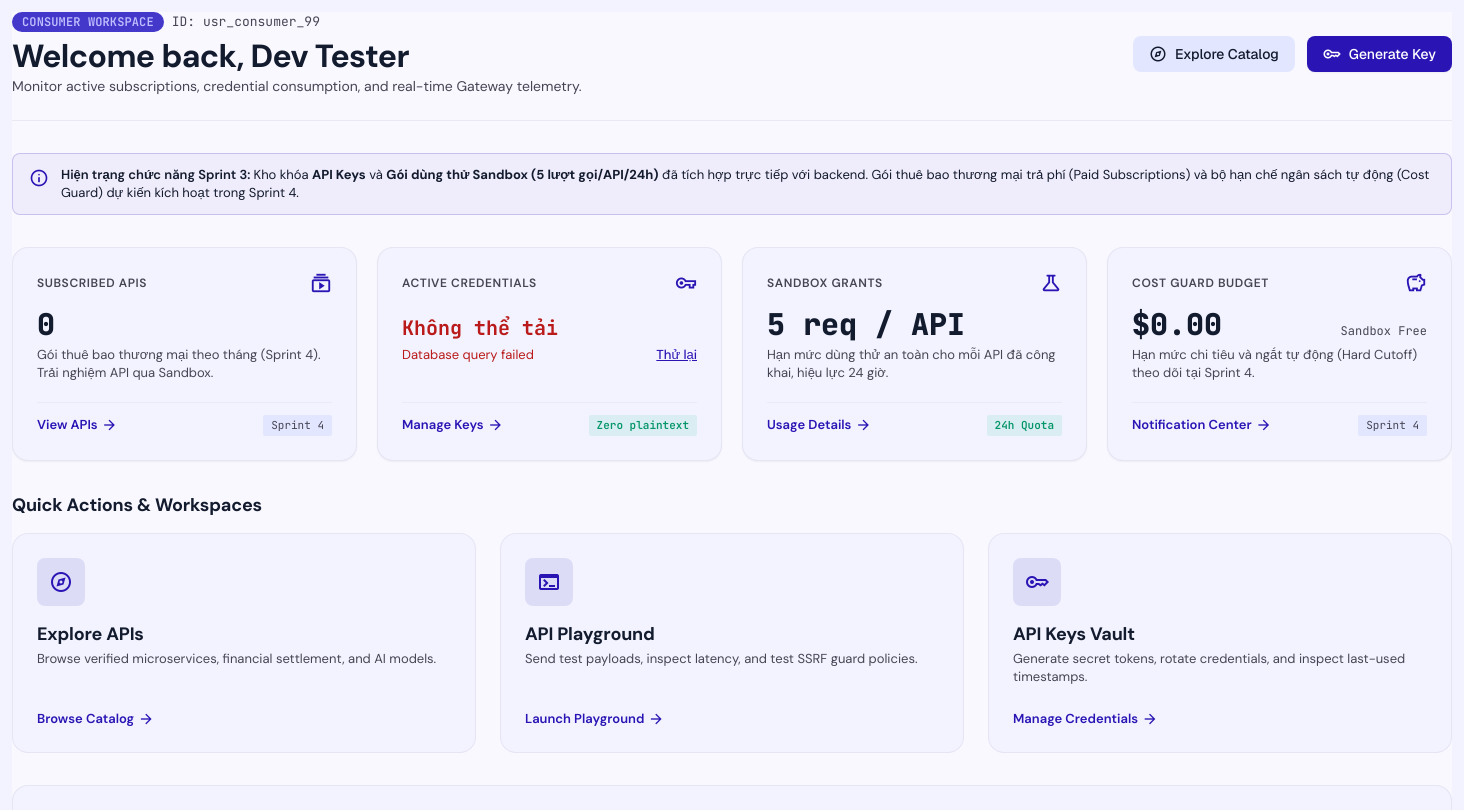
Test: Consumer Pages - Sprint 3 Real Backend Alignment & Honest States › ConsumerDashboardPage › differentiates API key network loading error from zero keys account with retry action
Expected: the text "Không thể tải" is shown, [402,315,558,341]
Expected: the text "0 Keys" is not shown
Note: Click retry
What coordinates should you click on to do the following:
click the button "Thử lại"
I would click on:
 (677, 355)
Its box is [656,346,697,364].
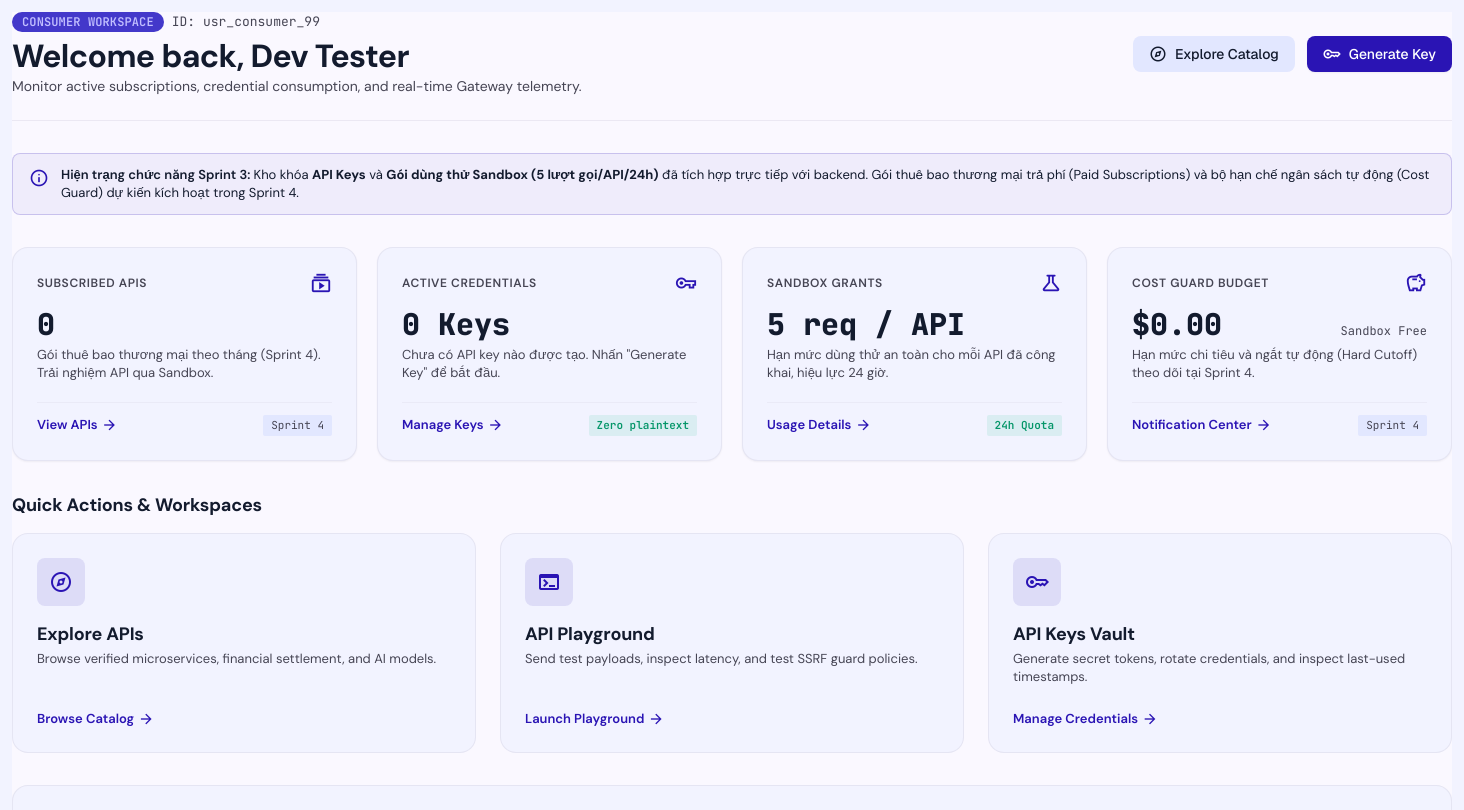
Expected: the text "0 Keys" is shown, [402,304,510,344]
